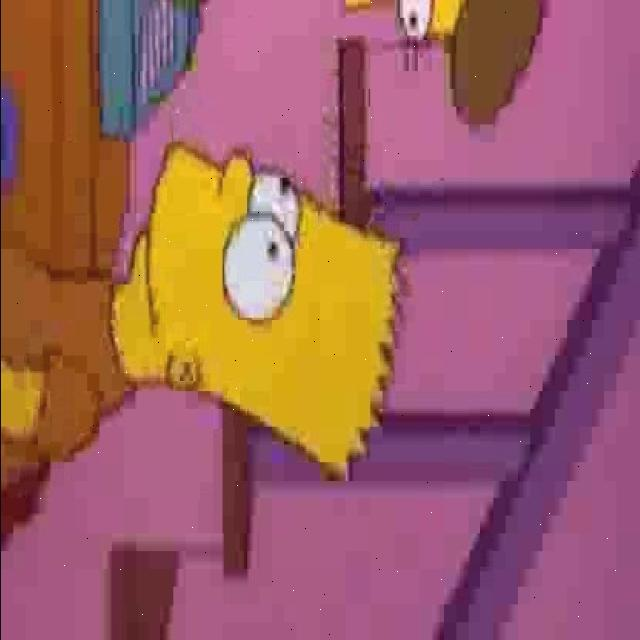Bart Simpson: (108, 141, 406, 481)
